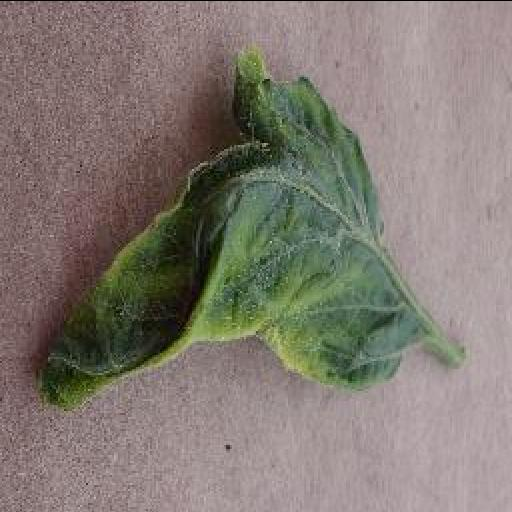disease_tomato: (29, 53, 427, 413)
